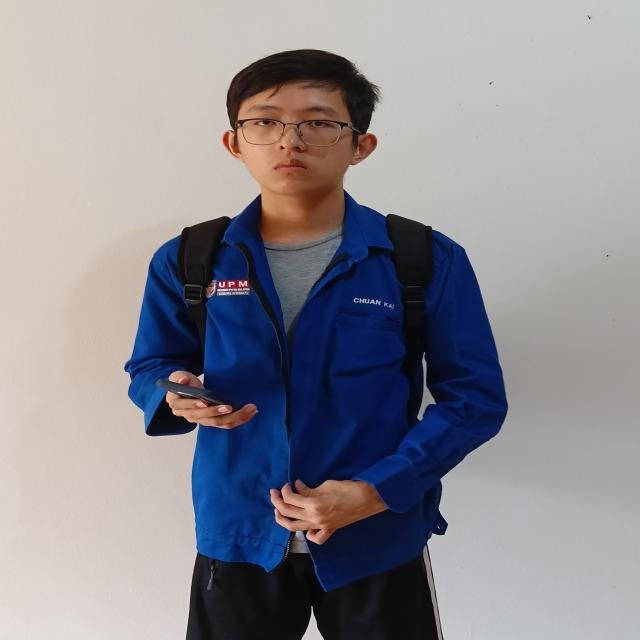person_with_labcoat: (126, 50, 507, 640)
